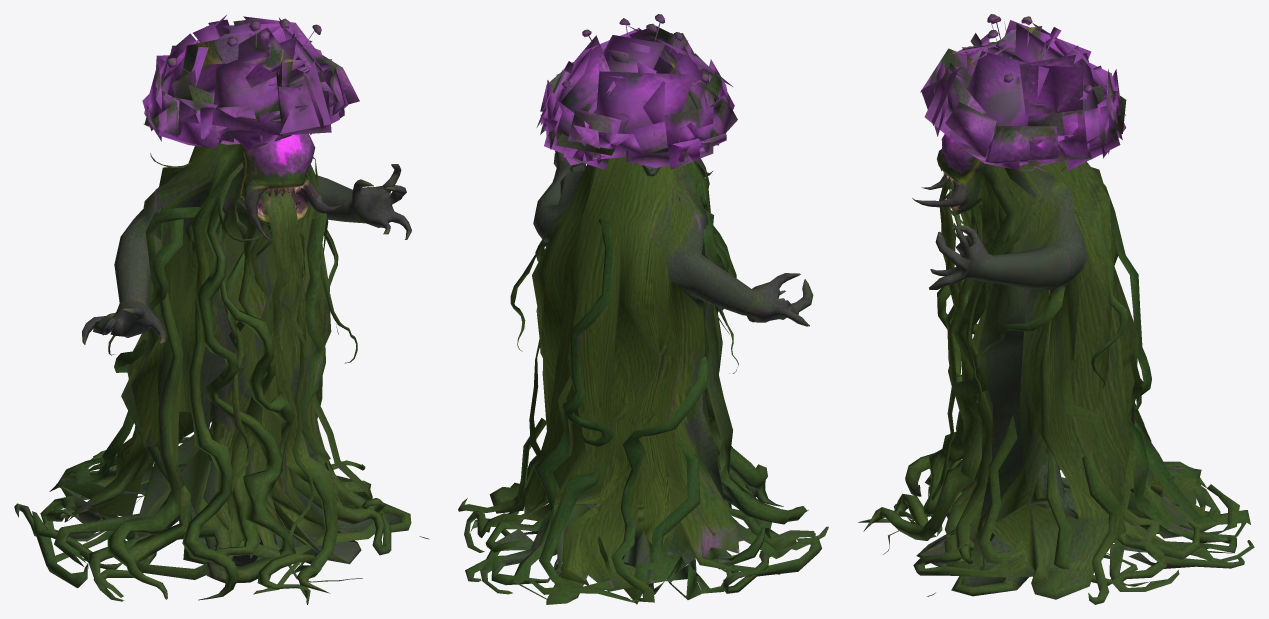
Rendered from vine_monster.glb.
The picture shows the model from 3 angles, left to right: view 1: azimuth 30°, elevation 25°; view 2: azimuth 150°, elevation 25°; view 3: azimuth 270°, elevation 25°; orthographic projection. The views are drawn at different scales.
Size of the model in its own units: 0.6396 by 0.9512 by 0.6621.
Materials: 1 (1 with a texture image).
